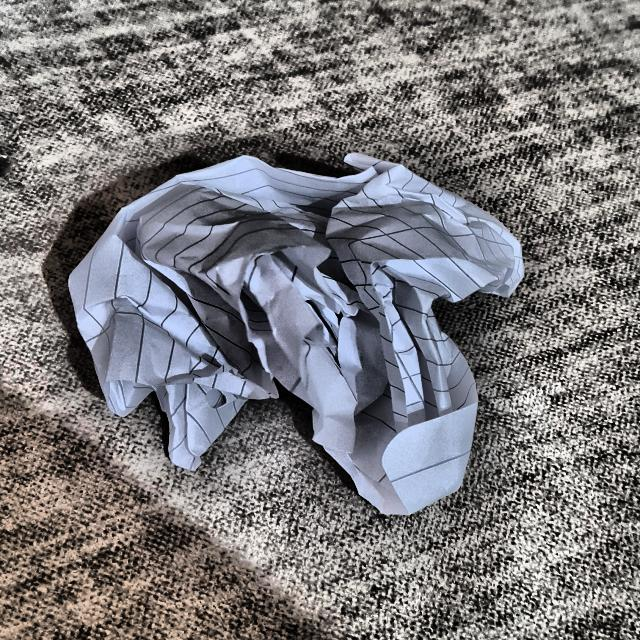paper: (66, 141, 549, 516)
